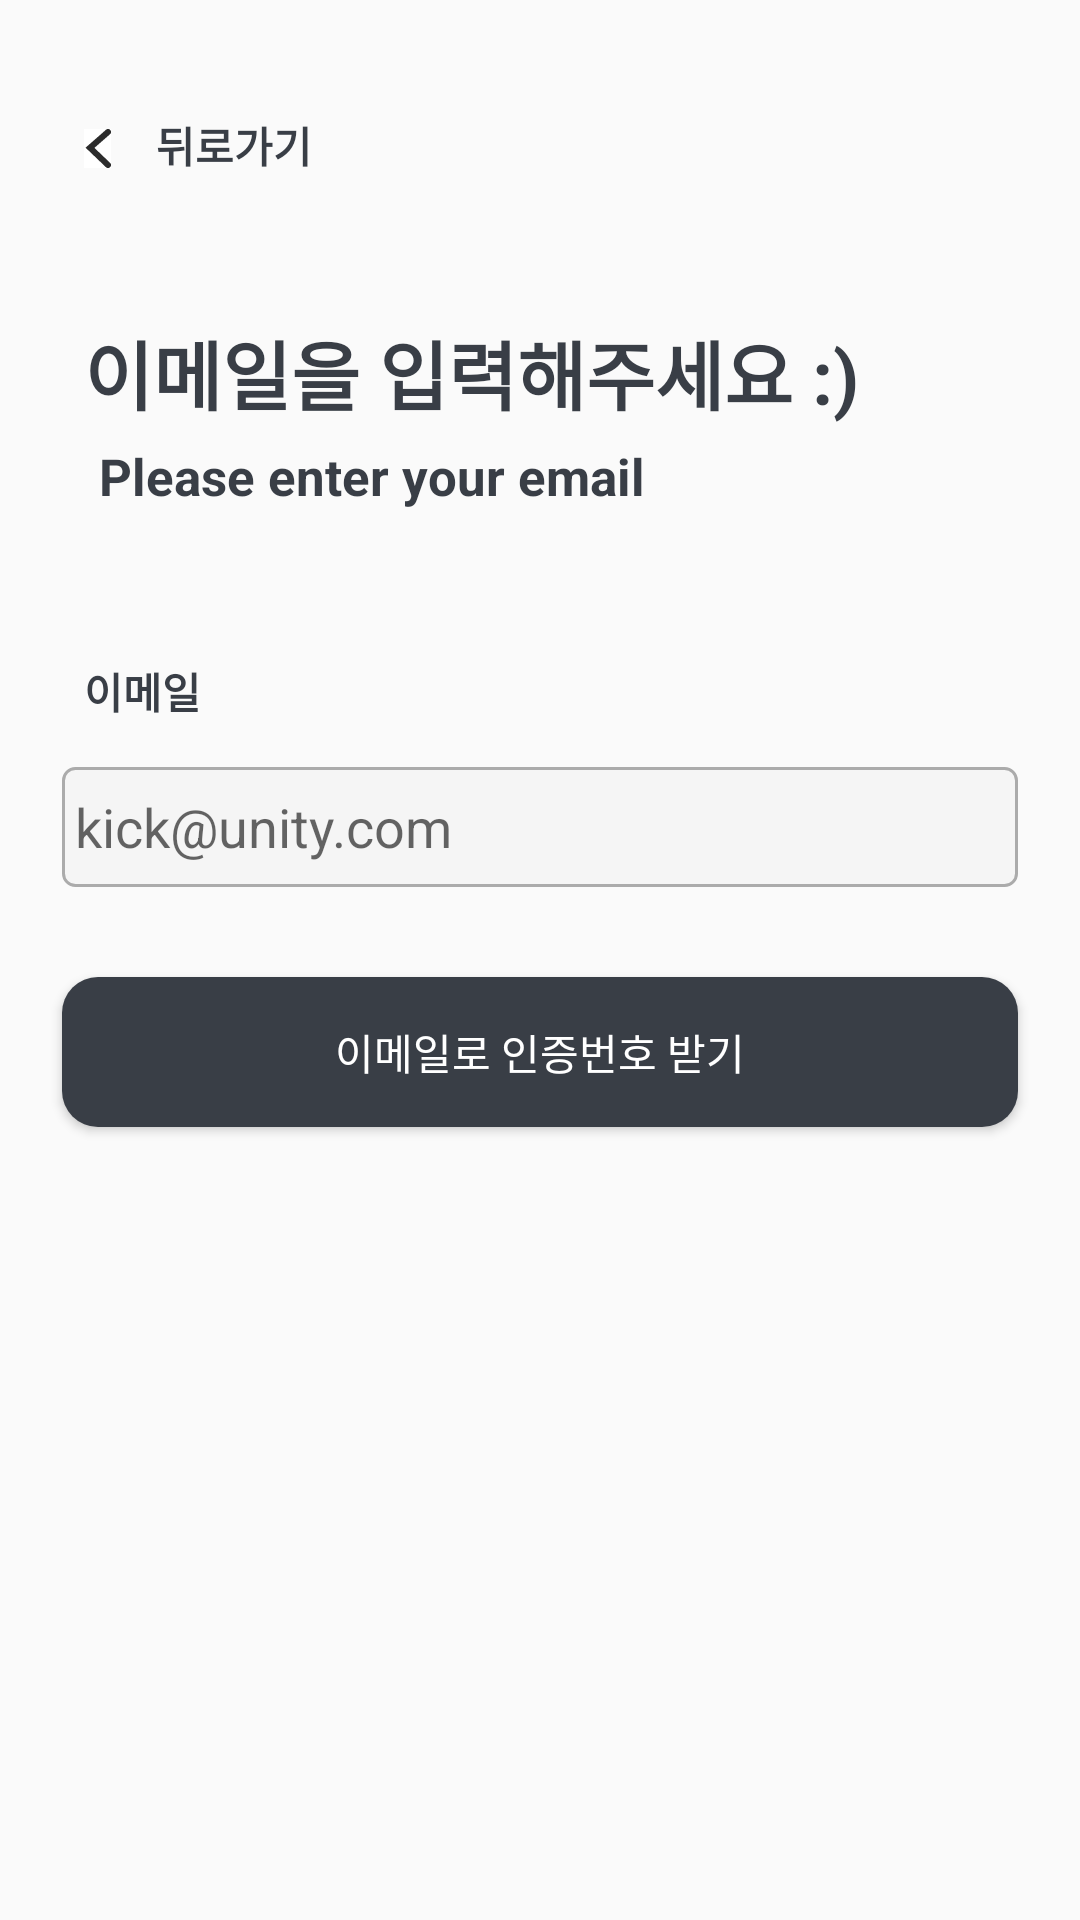

Where to tap for icons on this 1080×1920 app screen, as [x,y]:
arrow: [98,148]
